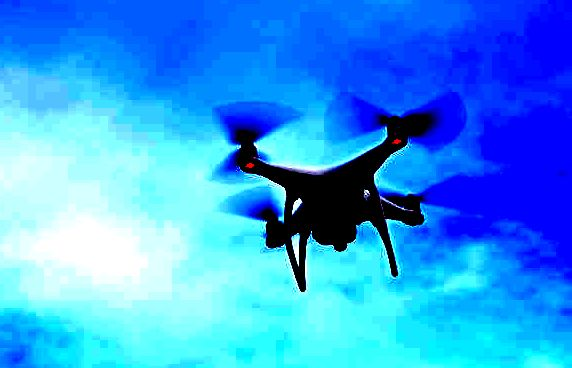Drone: (209, 99, 466, 296)
